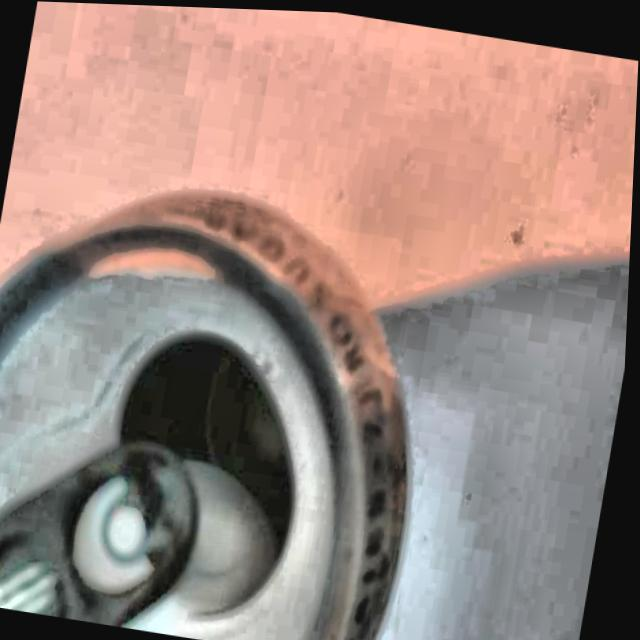Cans: (0, 105, 491, 640)
